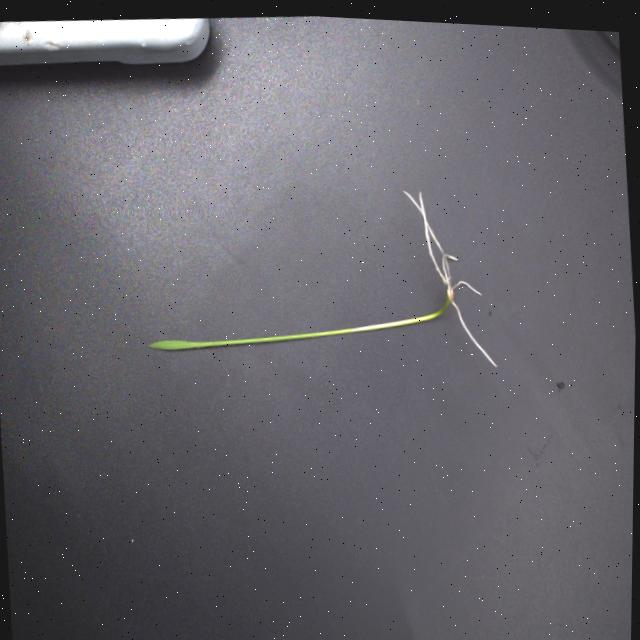leaf: (147, 324, 355, 352)
root: (402, 191, 500, 370)
steb: (356, 291, 453, 335)
